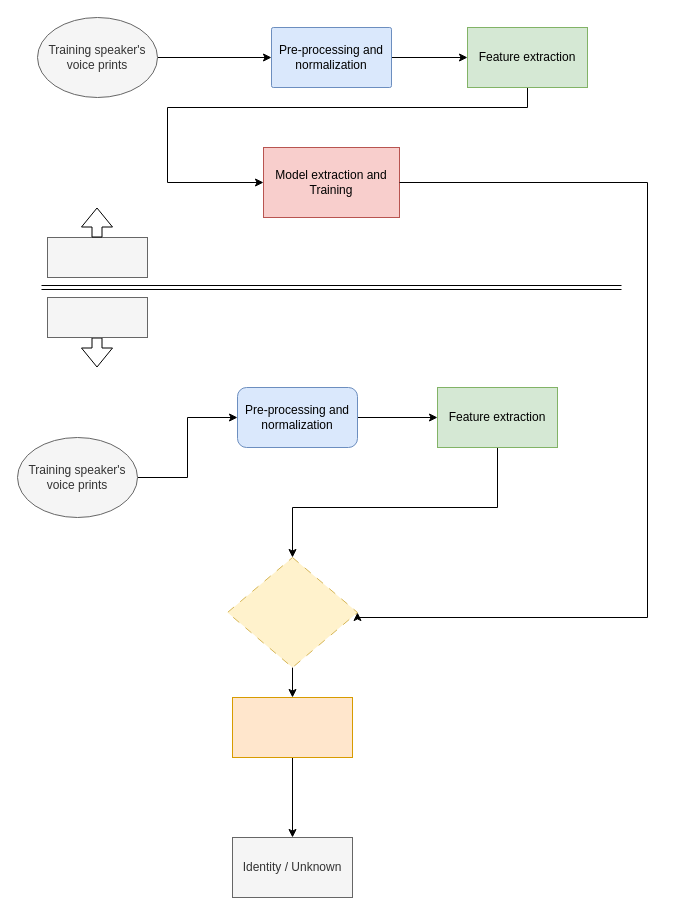
Image size: 673x915. Some labels were removed from this diagram. Here are the shapes that lost their labels. From the top down, the centre of each, then its label:
At (x=97, y=257): "Enrollement phase".
At (x=97, y=317): "Matching phase".
At (x=292, y=612): "Matching identity".
At (x=292, y=727): "Calculate similarity score".
